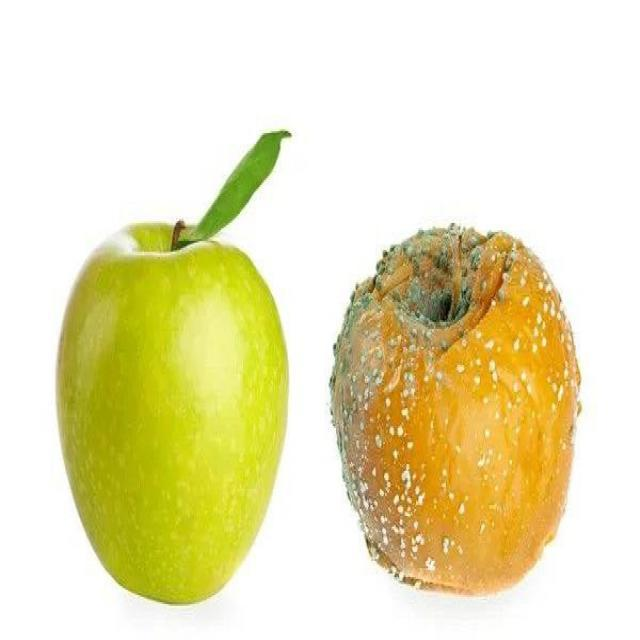Fresh Apple: (58, 225, 290, 612)
Rotten: (332, 225, 585, 587)
